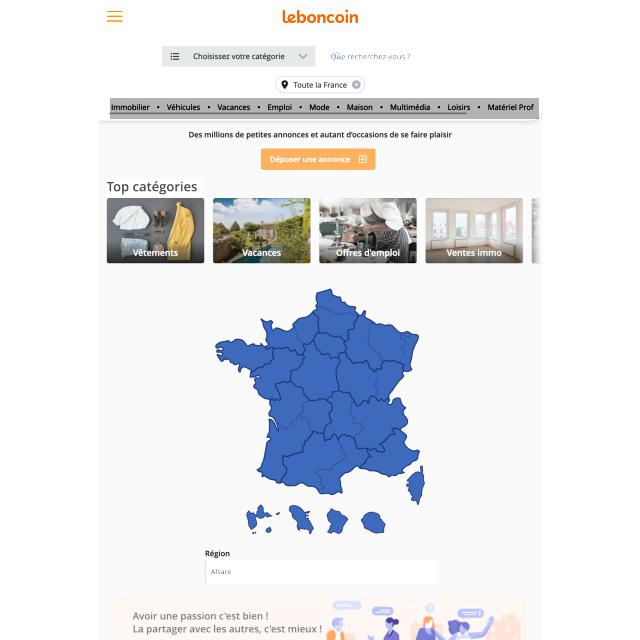CheckBox: (262, 147, 379, 171)
CheckedTextView: (324, 44, 482, 69)
alert: (116, 595, 524, 640), (207, 560, 436, 584), (162, 46, 315, 66)
bag: (90, 1, 547, 42)
breadcrumbs: (106, 179, 203, 196)
date picker: (278, 7, 362, 25)
decoration: (106, 199, 526, 264), (110, 98, 539, 119), (105, 8, 126, 24)
